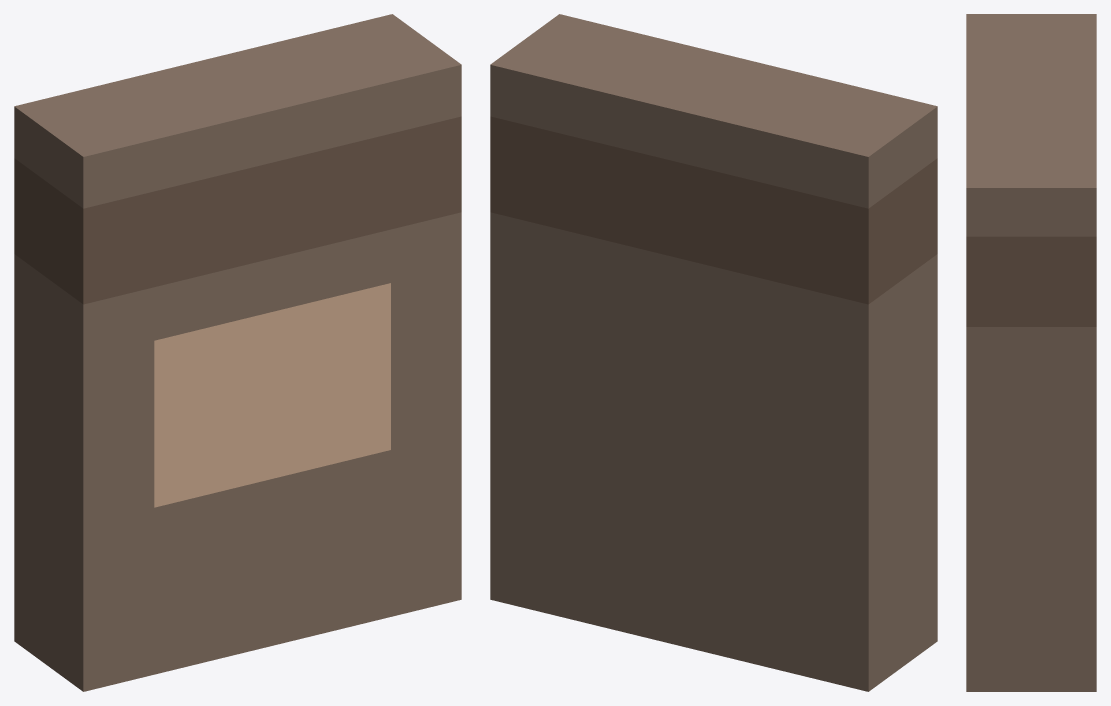
The model's file is SM_Food_FoodBox_05.fbx.
3 renders of one model, left to right at view 1: azimuth 30°, elevation 25°; view 2: azimuth 150°, elevation 25°; view 3: azimuth 270°, elevation 25°, orthographic. The views are drawn at different scales.
Parts seen in each view (by area): view 1: SM_Food_FoodBox_05; view 2: SM_Food_FoodBox_05; view 3: SM_Food_FoodBox_05.
Part boxes in pixels (<box>): SM_Food_FoodBox_05: <box>14,14,461,691</box>; SM_Food_FoodBox_05: <box>490,14,937,691</box>; SM_Food_FoodBox_05: <box>966,14,1096,691</box>.
Bounding box in the file's own units: 0.2195 × 0.2966 × 0.0696.
